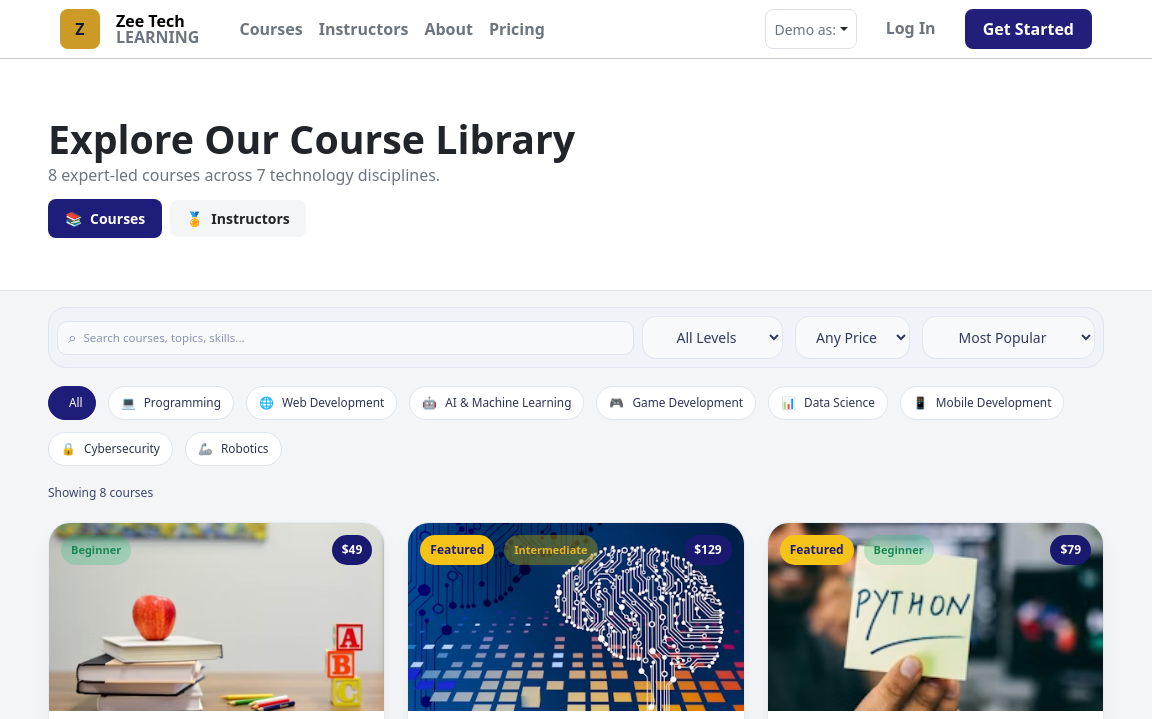
filters the course catalog by price
Select "Free" in the dropdown named "Filter by price". click: (852, 338)
box: x1=795 y1=316 x2=910 y2=359
(page scrolled)
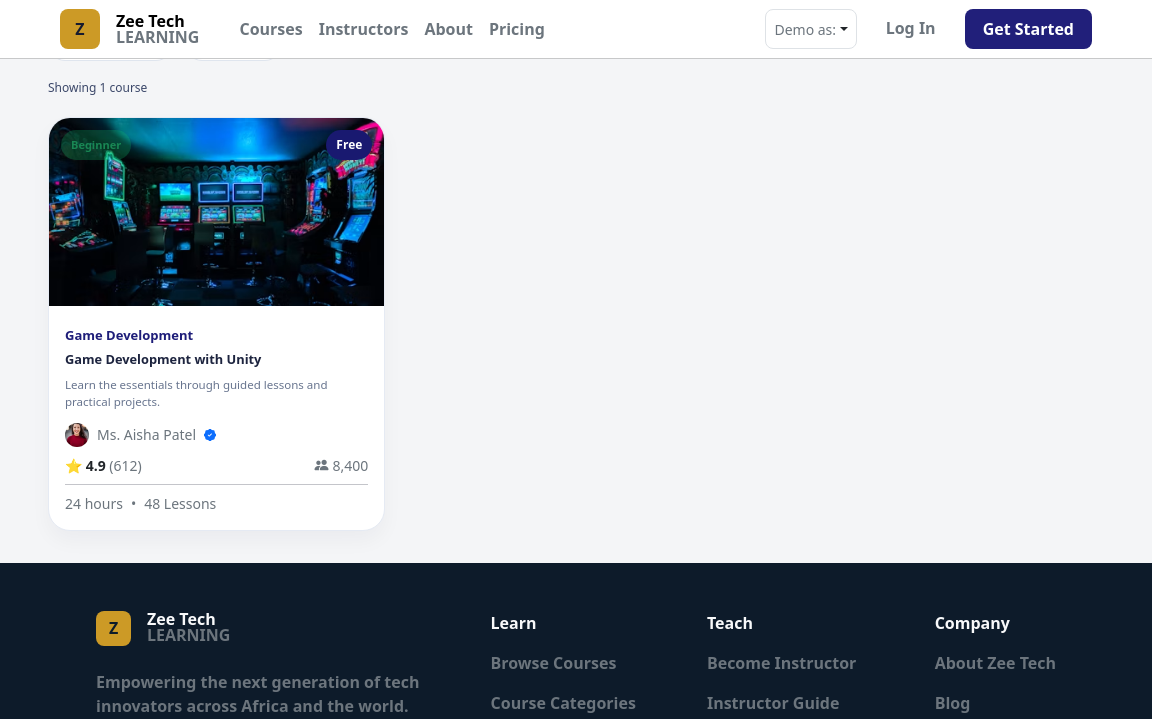
Check: the heading "Game Development with Unity" is shown, box x1=65 y1=350 x2=261 y2=368
Check: the text "Showing 1 course" is shown, box x1=48 y1=79 x2=147 y2=96
